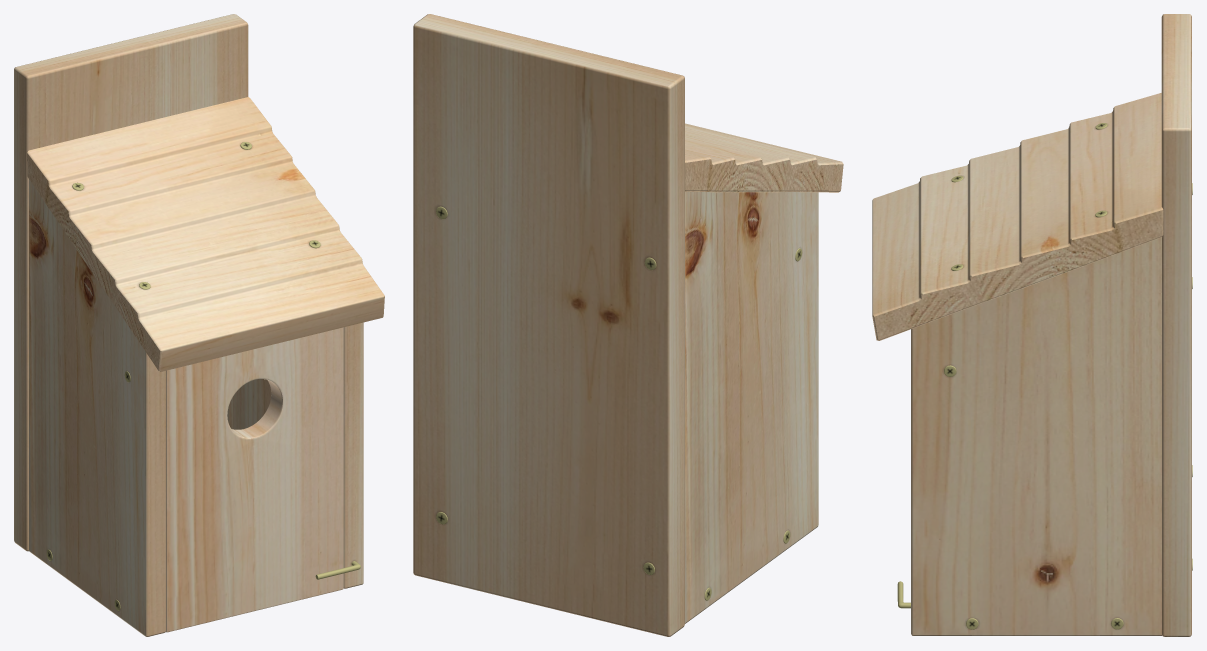
File: B07HPMBN4B.glb
3 renders of one model, left to right at view 1: azimuth 30°, elevation 25°; view 2: azimuth 150°, elevation 25°; view 3: azimuth 270°, elevation 25°, orthographic. The views are drawn at different scales.
Visible parts, largest first — view 1: RootNode; view 2: RootNode; view 3: RootNode.
Part boxes in pixels (x1,y1,x2,y2): RootNode: [14, 14, 384, 636]; RootNode: [413, 14, 843, 636]; RootNode: [872, 14, 1192, 636].
Size of the model in its own units: 0.1488 by 0.3001 by 0.171.
1 material, 1 textured.
